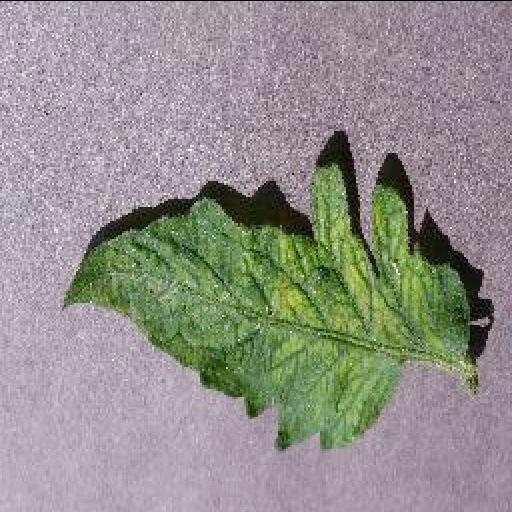Mosaic Virus: (58, 166, 472, 450)
